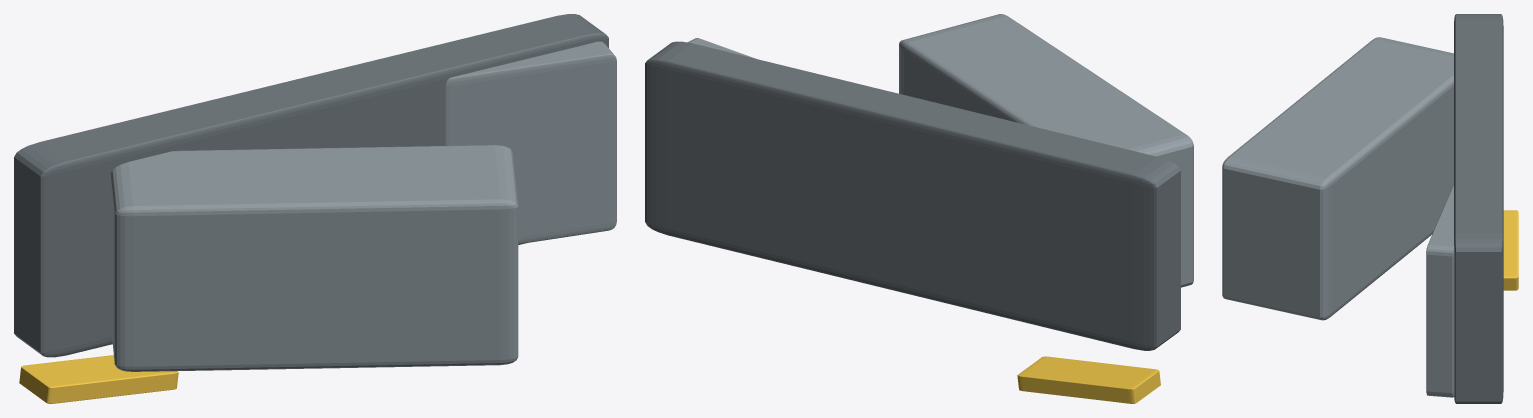
Rendered from s-x01-specter-tactical-lod2.glb.
3 renders of one model, left to right at view 1: azimuth 30°, elevation 25°; view 2: azimuth 150°, elevation 25°; view 3: azimuth 270°, elevation 25°, orthographic. The views are drawn at different scales.
Visible parts, largest first — view 1: tactical_canister, strategic_lower, strategic_nose, strategic_jack_-1; view 2: strategic_lower, tactical_canister, strategic_jack_-1; view 3: tactical_canister, strategic_lower, strategic_nose, strategic_jack_-1.
Part boxes in pixels (left/top/right/bottom): tactical_canister: left=110, top=145, right=518, bottom=371; strategic_lower: left=14, top=14, right=608, bottom=357; strategic_nose: left=445, top=41, right=616, bottom=244; strategic_jack_-1: left=19, top=355, right=178, bottom=403; strategic_lower: left=645, top=41, right=1180, bottom=350; tactical_canister: left=899, top=14, right=1193, bottom=287; strategic_jack_-1: left=1017, top=356, right=1160, bottom=403; tactical_canister: left=1222, top=37, right=1453, bottom=320; strategic_lower: left=1454, top=14, right=1503, bottom=403; strategic_nose: left=1426, top=186, right=1454, bottom=397; strategic_jack_-1: left=1503, top=210, right=1518, bottom=290.
Size of what is drawn, in the model's own units: 9.33 by 4.1 by 4.96.
